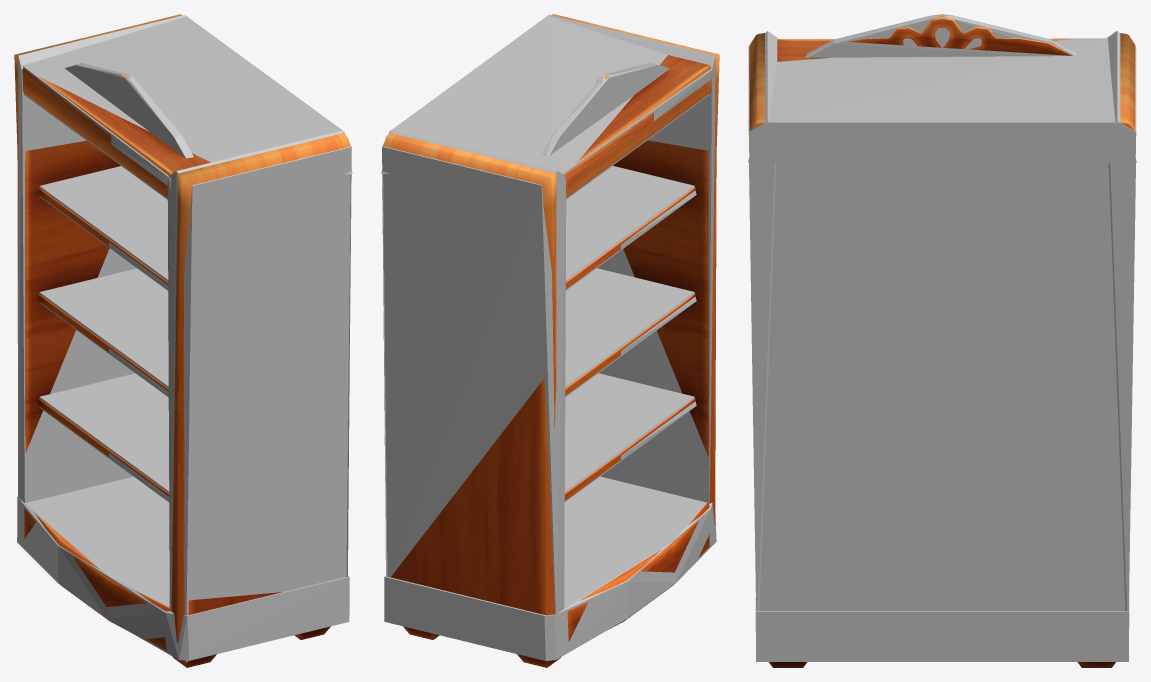
Rendered from SM_Cupboard01.fbx.
3 renders of one model, left to right at view 1: azimuth 30°, elevation 25°; view 2: azimuth 150°, elevation 25°; view 3: azimuth 270°, elevation 25°, orthographic. The views are drawn at different scales.
Parts seen in each view (by area): view 1: SM_Cupboard01_ConvexHulls, SM_Cupboard01; view 2: SM_Cupboard01_ConvexHulls, SM_Cupboard01; view 3: SM_Cupboard01_ConvexHulls, SM_Cupboard01.
Boxes of the visible parts, box(x1,y1,x2,y2) form: SM_Cupboard01_ConvexHulls: box(17, 15, 352, 662); SM_Cupboard01: box(14, 14, 350, 667); SM_Cupboard01_ConvexHulls: box(381, 14, 716, 660); SM_Cupboard01: box(383, 14, 719, 667); SM_Cupboard01_ConvexHulls: box(748, 14, 1136, 661); SM_Cupboard01: box(749, 14, 1135, 667).
Bounding box in the file's own units: 77.58 × 129 × 215.
2 materials, 1 textured.
